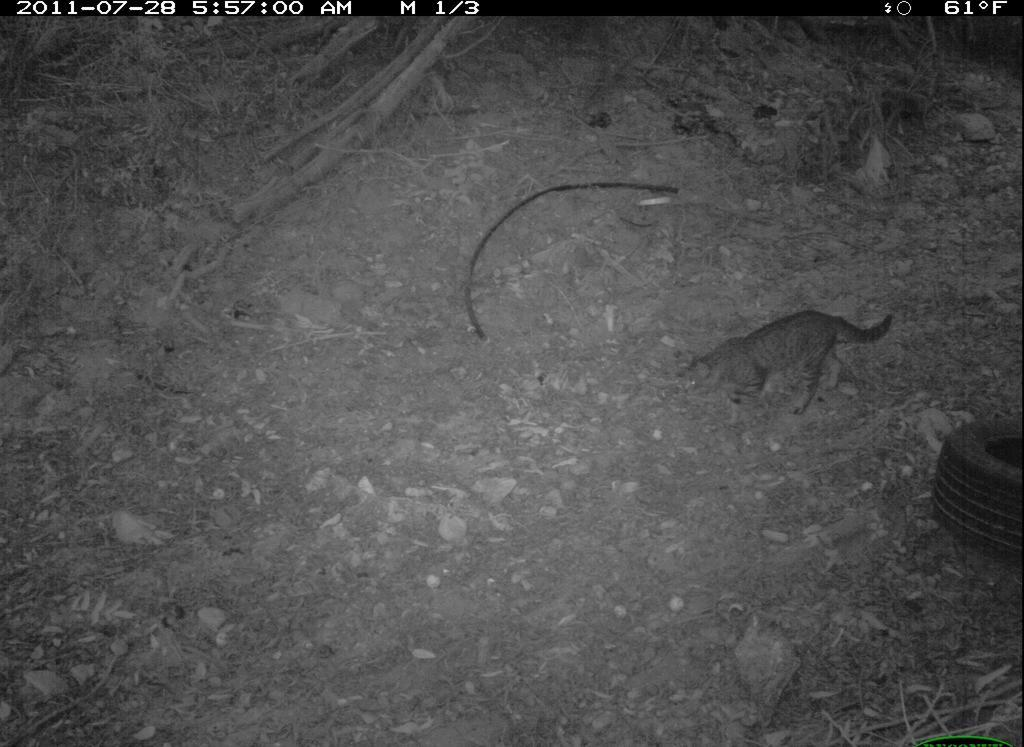cat: (678, 292, 904, 431)
